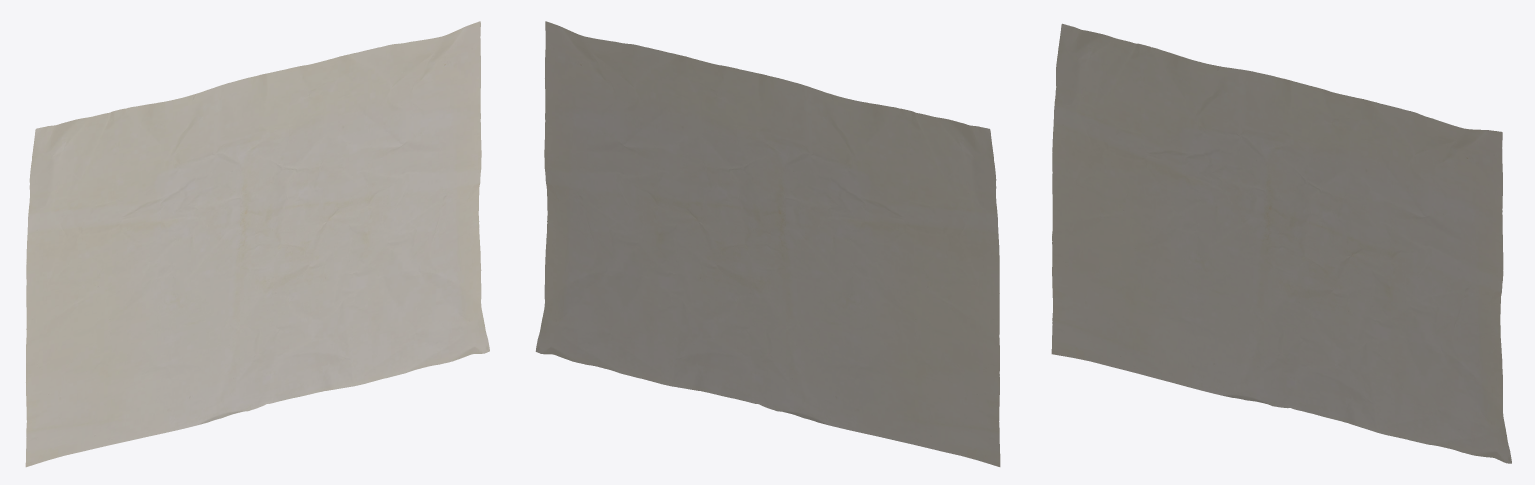
The model's file is paper.glb.
3 renders of one model, left to right at view 1: azimuth 30°, elevation 25°; view 2: azimuth 150°, elevation 25°; view 3: azimuth 330°, elevation 25°, orthographic.
Visible parts, largest first — view 1: Plane.005; view 2: Plane.005; view 3: Plane.005.
Boxes of the visible parts, x1,y1,x2,y2 form: Plane.005: (25,21,489,467); Plane.005: (535,21,1000,466); Plane.005: (1051,23,1511,463).
Bounding box in the file's own units: 1.84 × 1.26 × 0.0022.
1 material, 1 textured.
